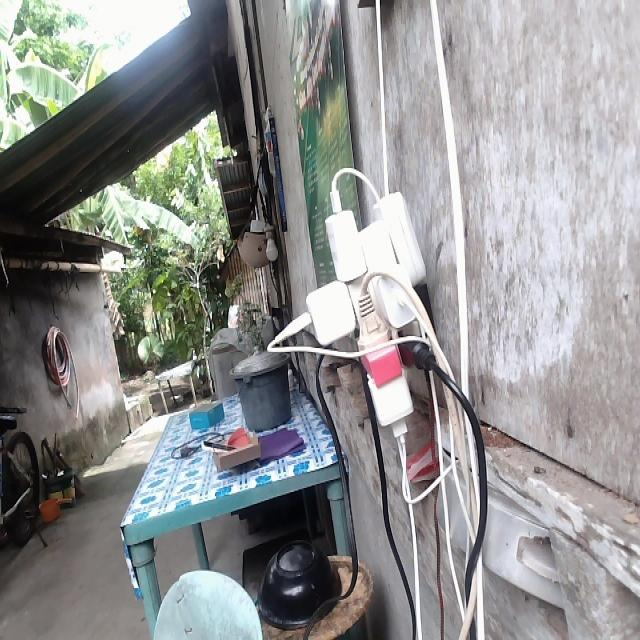-: (271, 179, 440, 445)
